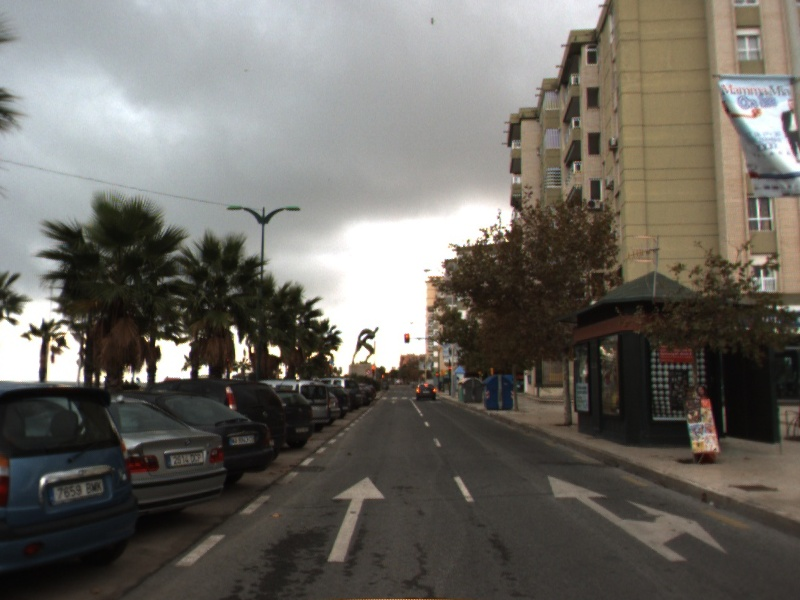STRAIGHT: (326, 475, 387, 563)
STRAIGHT_RIGHT: (546, 473, 729, 564)
